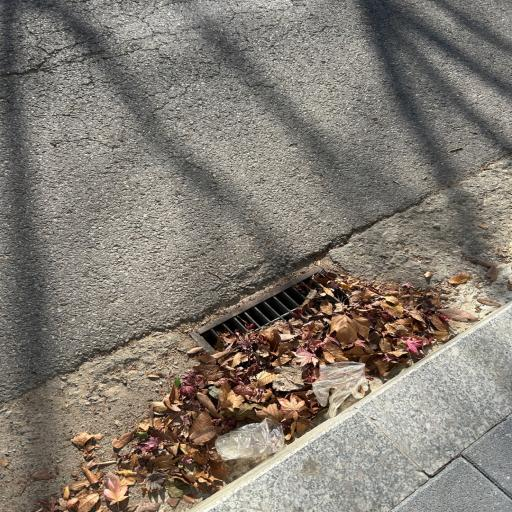debris: (250, 302, 378, 407), (378, 321, 424, 356), (331, 276, 367, 307), (277, 393, 306, 426), (218, 330, 255, 344), (374, 360, 388, 376), (231, 352, 249, 364), (304, 289, 317, 303), (255, 345, 269, 355), (319, 287, 333, 296), (335, 303, 347, 311), (265, 389, 274, 397), (377, 318, 383, 330), (401, 358, 411, 365), (323, 266, 334, 272), (222, 348, 234, 353), (421, 347, 429, 354)
drain: (205, 264, 432, 427)
